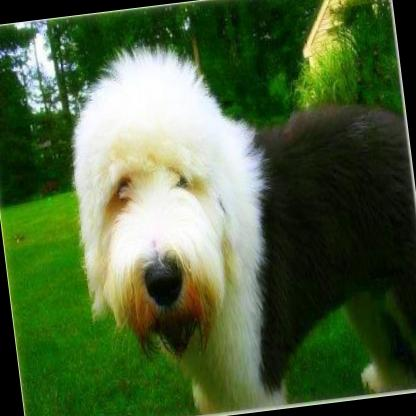Old_English_sheepdog: (53, 11, 416, 416)
